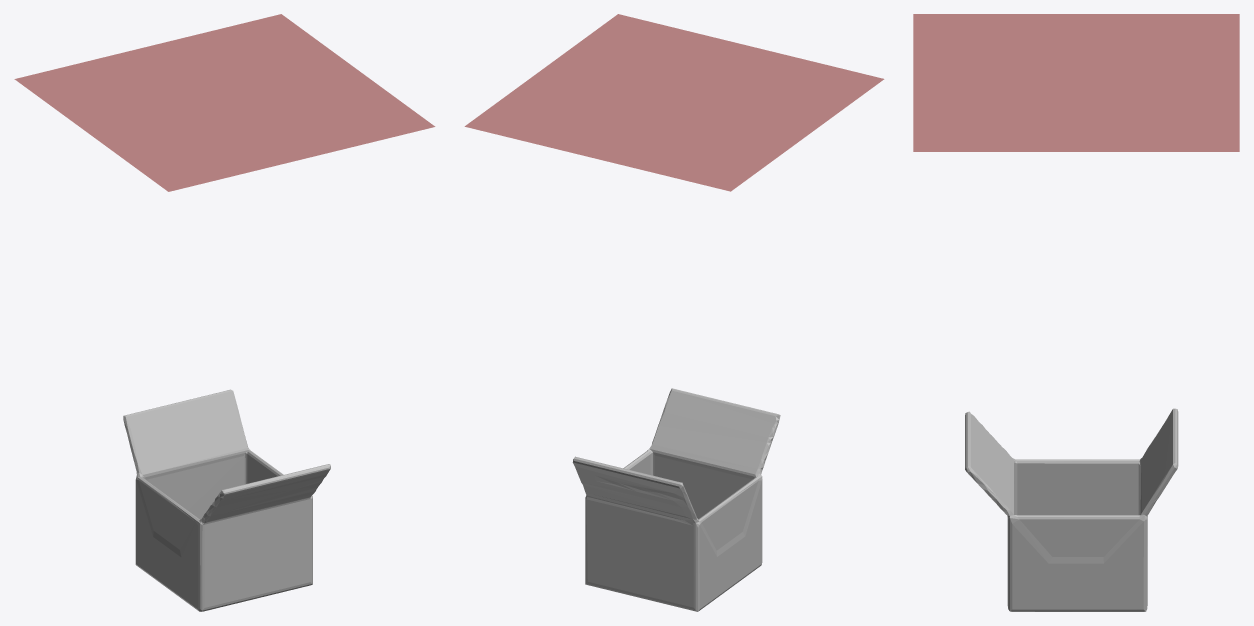
File: init.glb
3 renders of one model, left to right at view 1: azimuth 30°, elevation 25°; view 2: azimuth 150°, elevation 25°; view 3: azimuth 270°, elevation 25°, orthographic. The views are drawn at different scales.
Visible parts, largest first — view 1: world, object.obj; view 2: world, object.obj; view 3: world, object.obj.
Boxes of the visible parts, x1,y1,x2,y2 form: world: (14,14,435,191); object.obj: (123,389,330,611); world: (464,14,884,191); object.obj: (572,388,780,611); world: (913,14,1239,151); object.obj: (965,408,1178,611).
Bounding box in the file's own units: 0.5904 × 1 × 0.5904.
